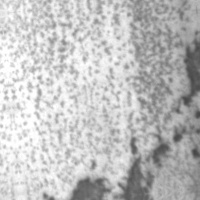patches: (116, 142, 171, 197), (175, 37, 199, 107), (55, 172, 114, 199)
pitted_surface: (2, 0, 196, 162)
